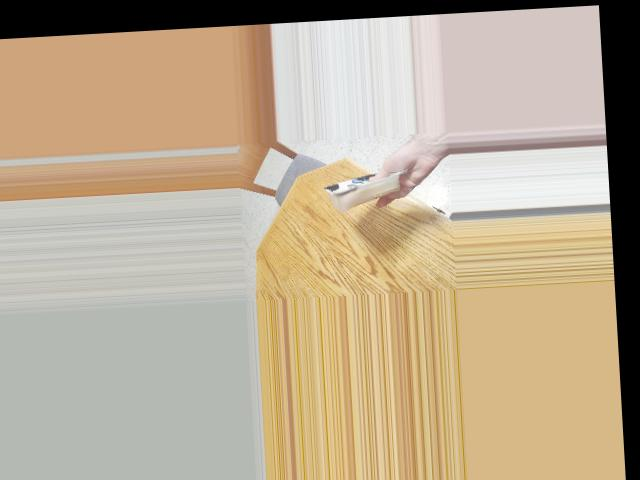cheese: (326, 153, 402, 220)
